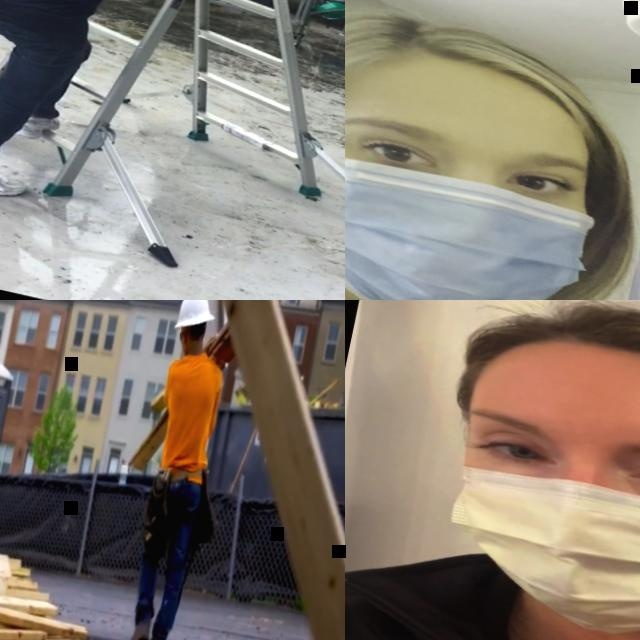Hardhat: (172, 300, 220, 336)
Mask: (426, 445, 640, 640), (345, 148, 602, 300)
NO-Hardhat: (345, 0, 619, 160), (452, 300, 640, 444)
NO-Safety Vest: (345, 230, 640, 300), (345, 570, 640, 640), (147, 348, 227, 482), (0, 0, 130, 45)
Person: (345, 300, 640, 640), (345, 0, 640, 300), (0, 0, 232, 235), (98, 300, 246, 640)
